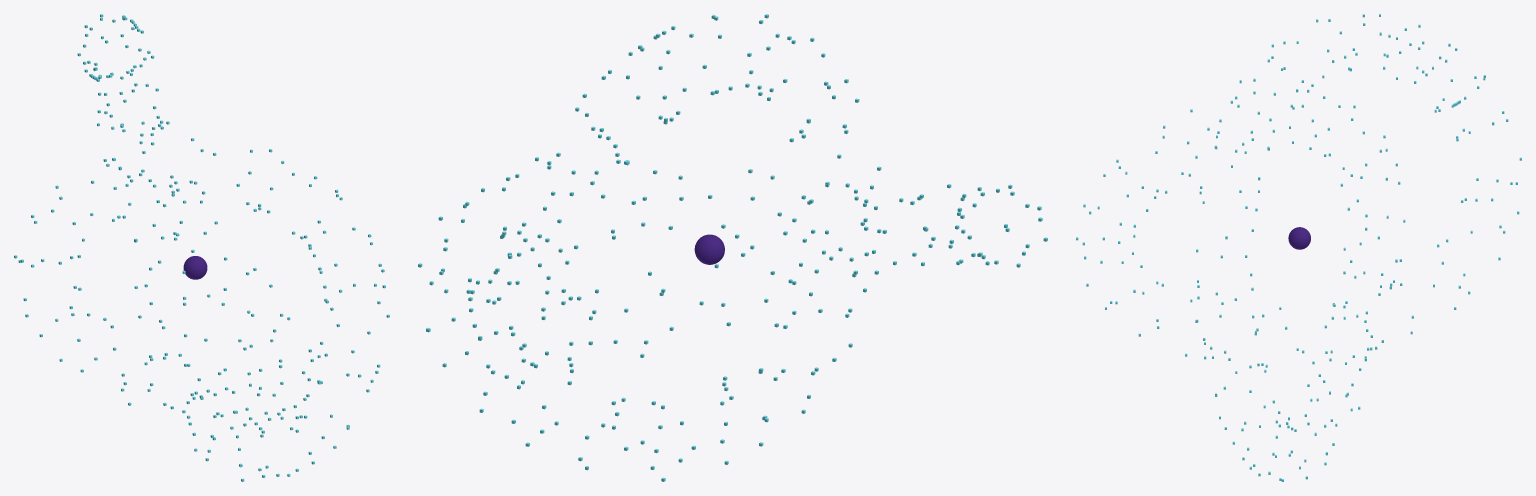
File: placeholder_pointcloud.glb
3 renders of one model, left to right at view 1: azimuth 30°, elevation 25°; view 2: azimuth 150°, elevation 25°; view 3: azimuth 270°, elevation 25°, orthographic. The views are drawn at different scales.
Visible parts, largest first — view 1: Sphere; view 2: Sphere; view 3: no part large enough to name.
Boxes of the visible parts, box(x1,y1,x2,y2) form: Sphere: box(183, 256, 207, 279); Sphere: box(694, 234, 724, 264).
Bounding box in the file's own units: 19.63 × 19.56 × 19.67.
